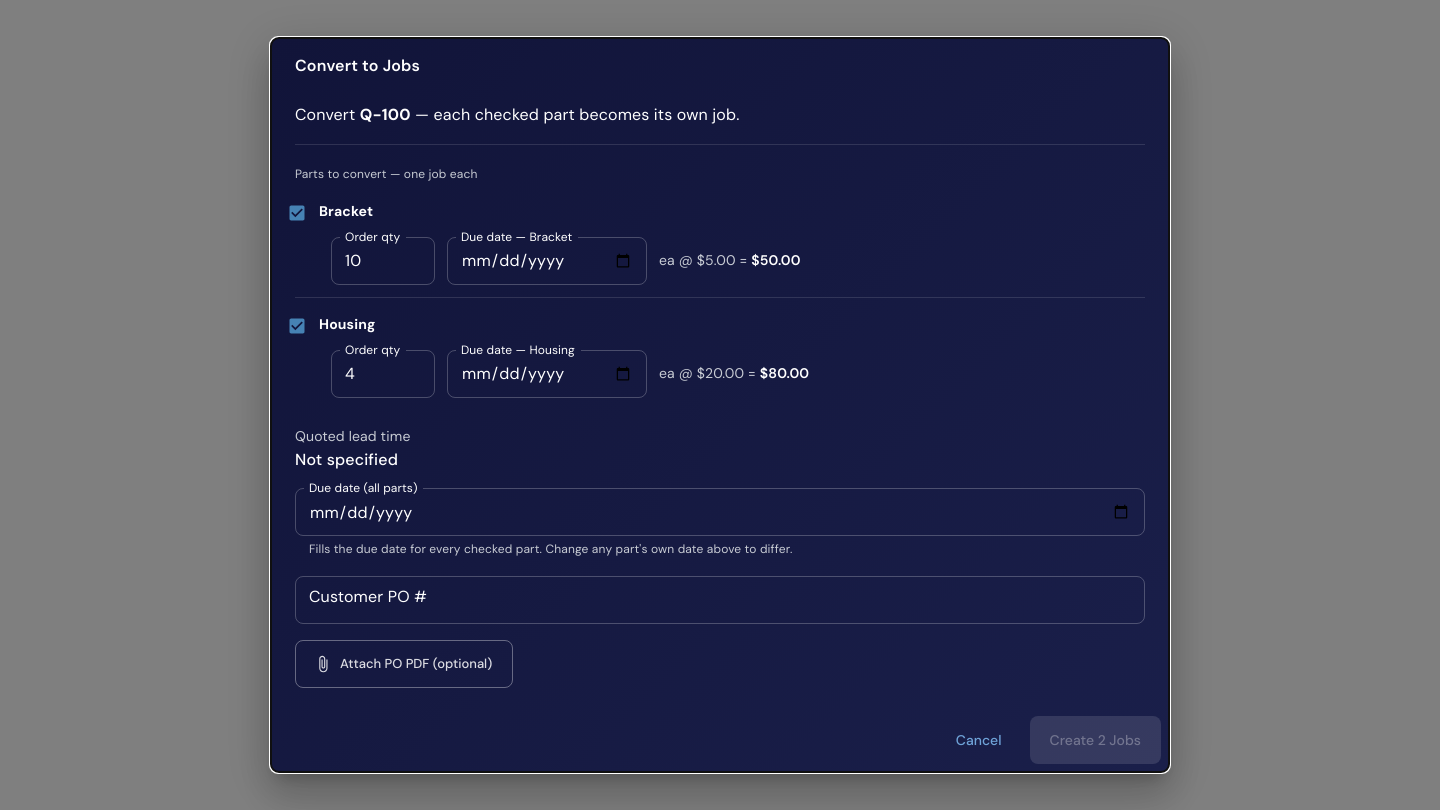
Test: ConvertToJobModal — one job per checked part › stays open and lists every job it created when the pass makes more than one
Expected: the field labelled "Customer PO #" is empty, [295,580,1145,620]
Type "2030-01-01" into the date field labelled "Due date (all parts)" at (720,512), box [295,492,1145,532]
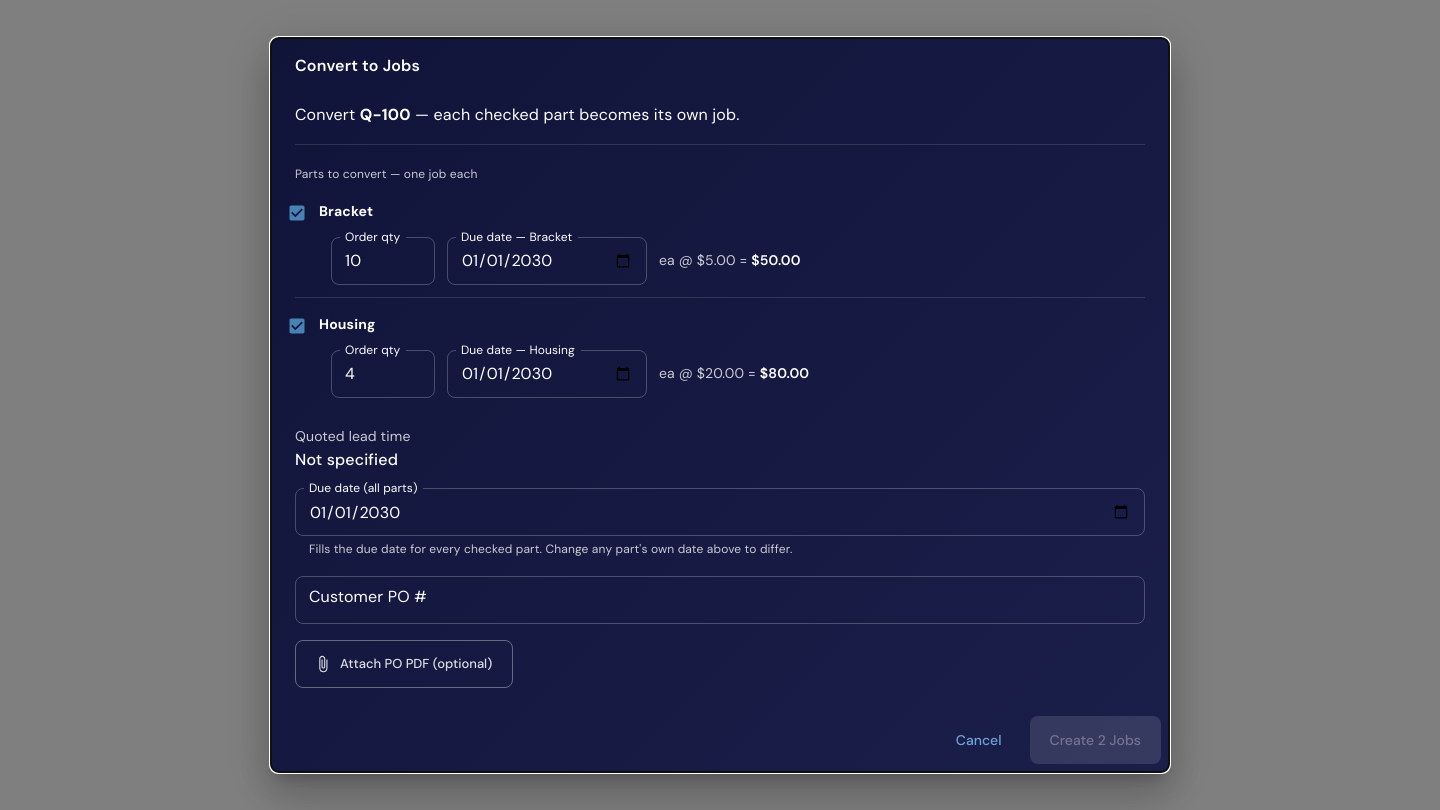
Type "PO-1" into the field labelled "Customer PO #" at (720,600), box [295,580,1145,620]
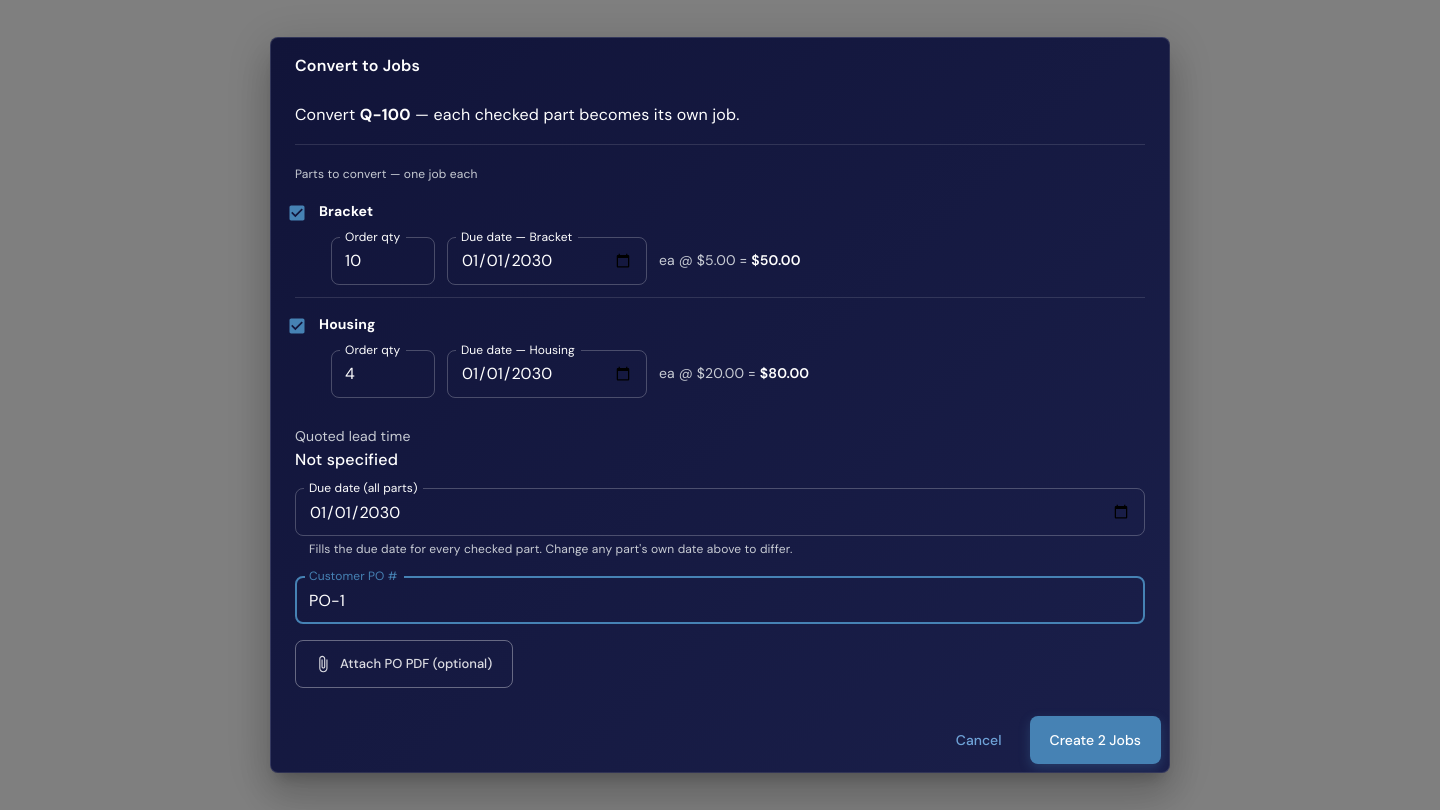
Click the button "Create 2 Jobs" at (1095,740), box [1030,716,1161,764]
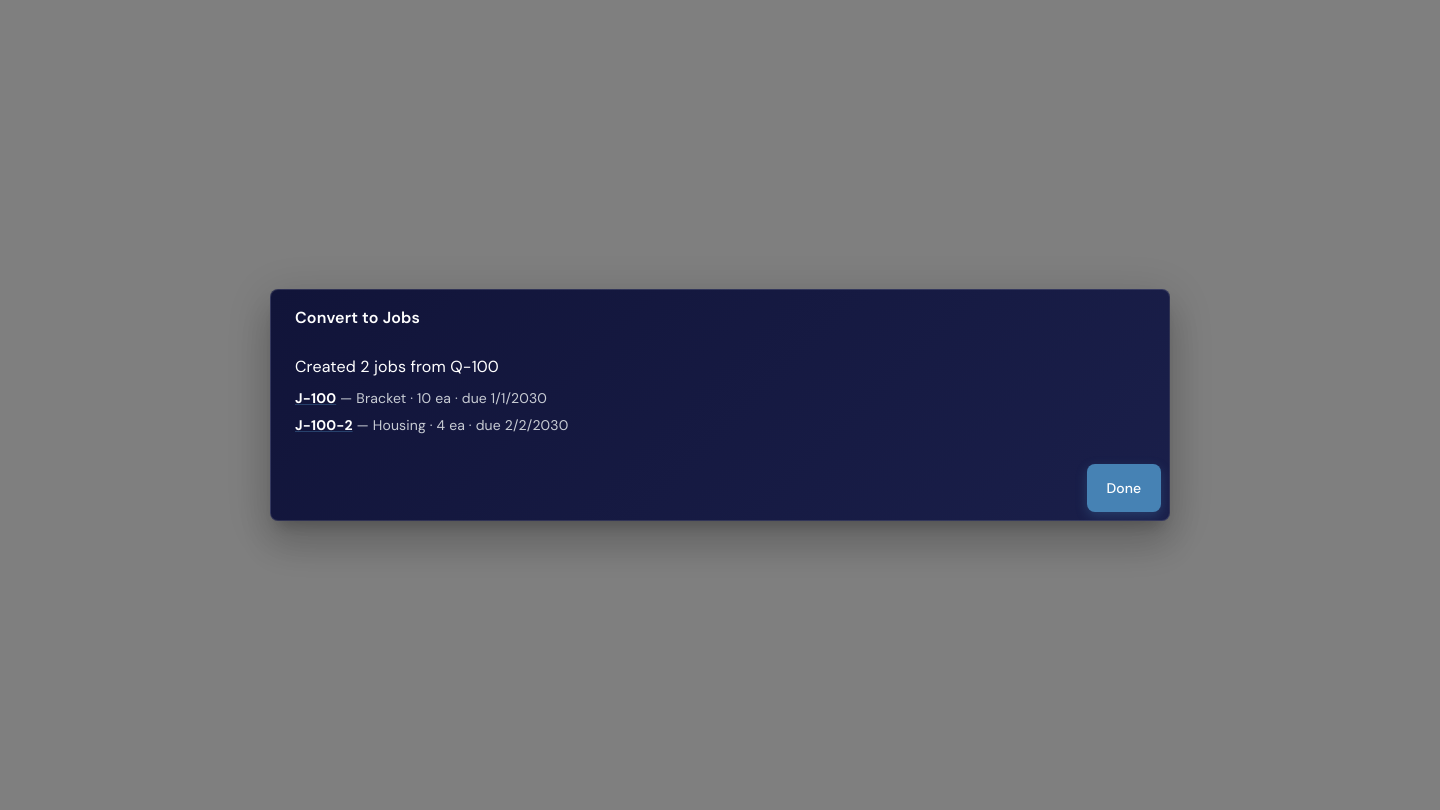
Expected: the text "Created 2 jobs from Q-100" is shown, [295,356,499,377]
